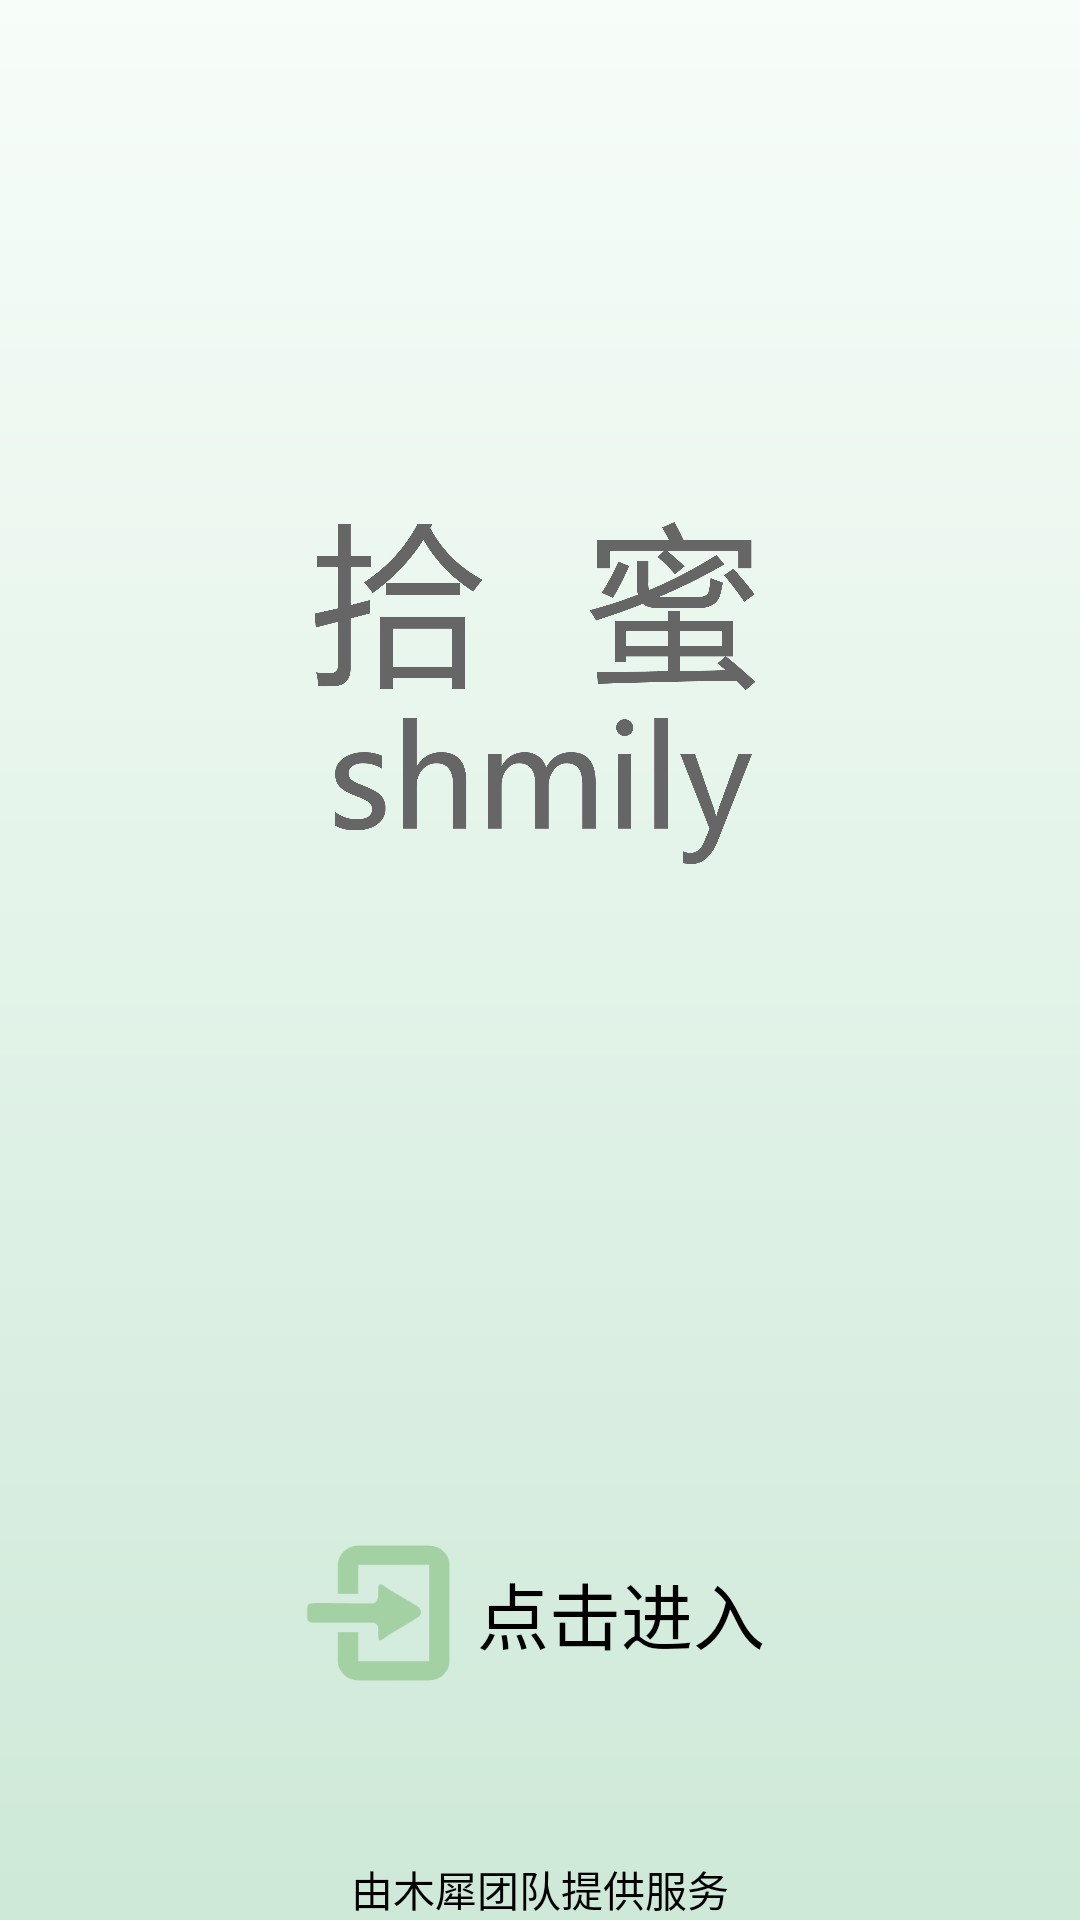

Point at icon controls on the screen. Image size 1080 × 1920, points as (x=x, y=y).
go in: (x=378, y=1613)
